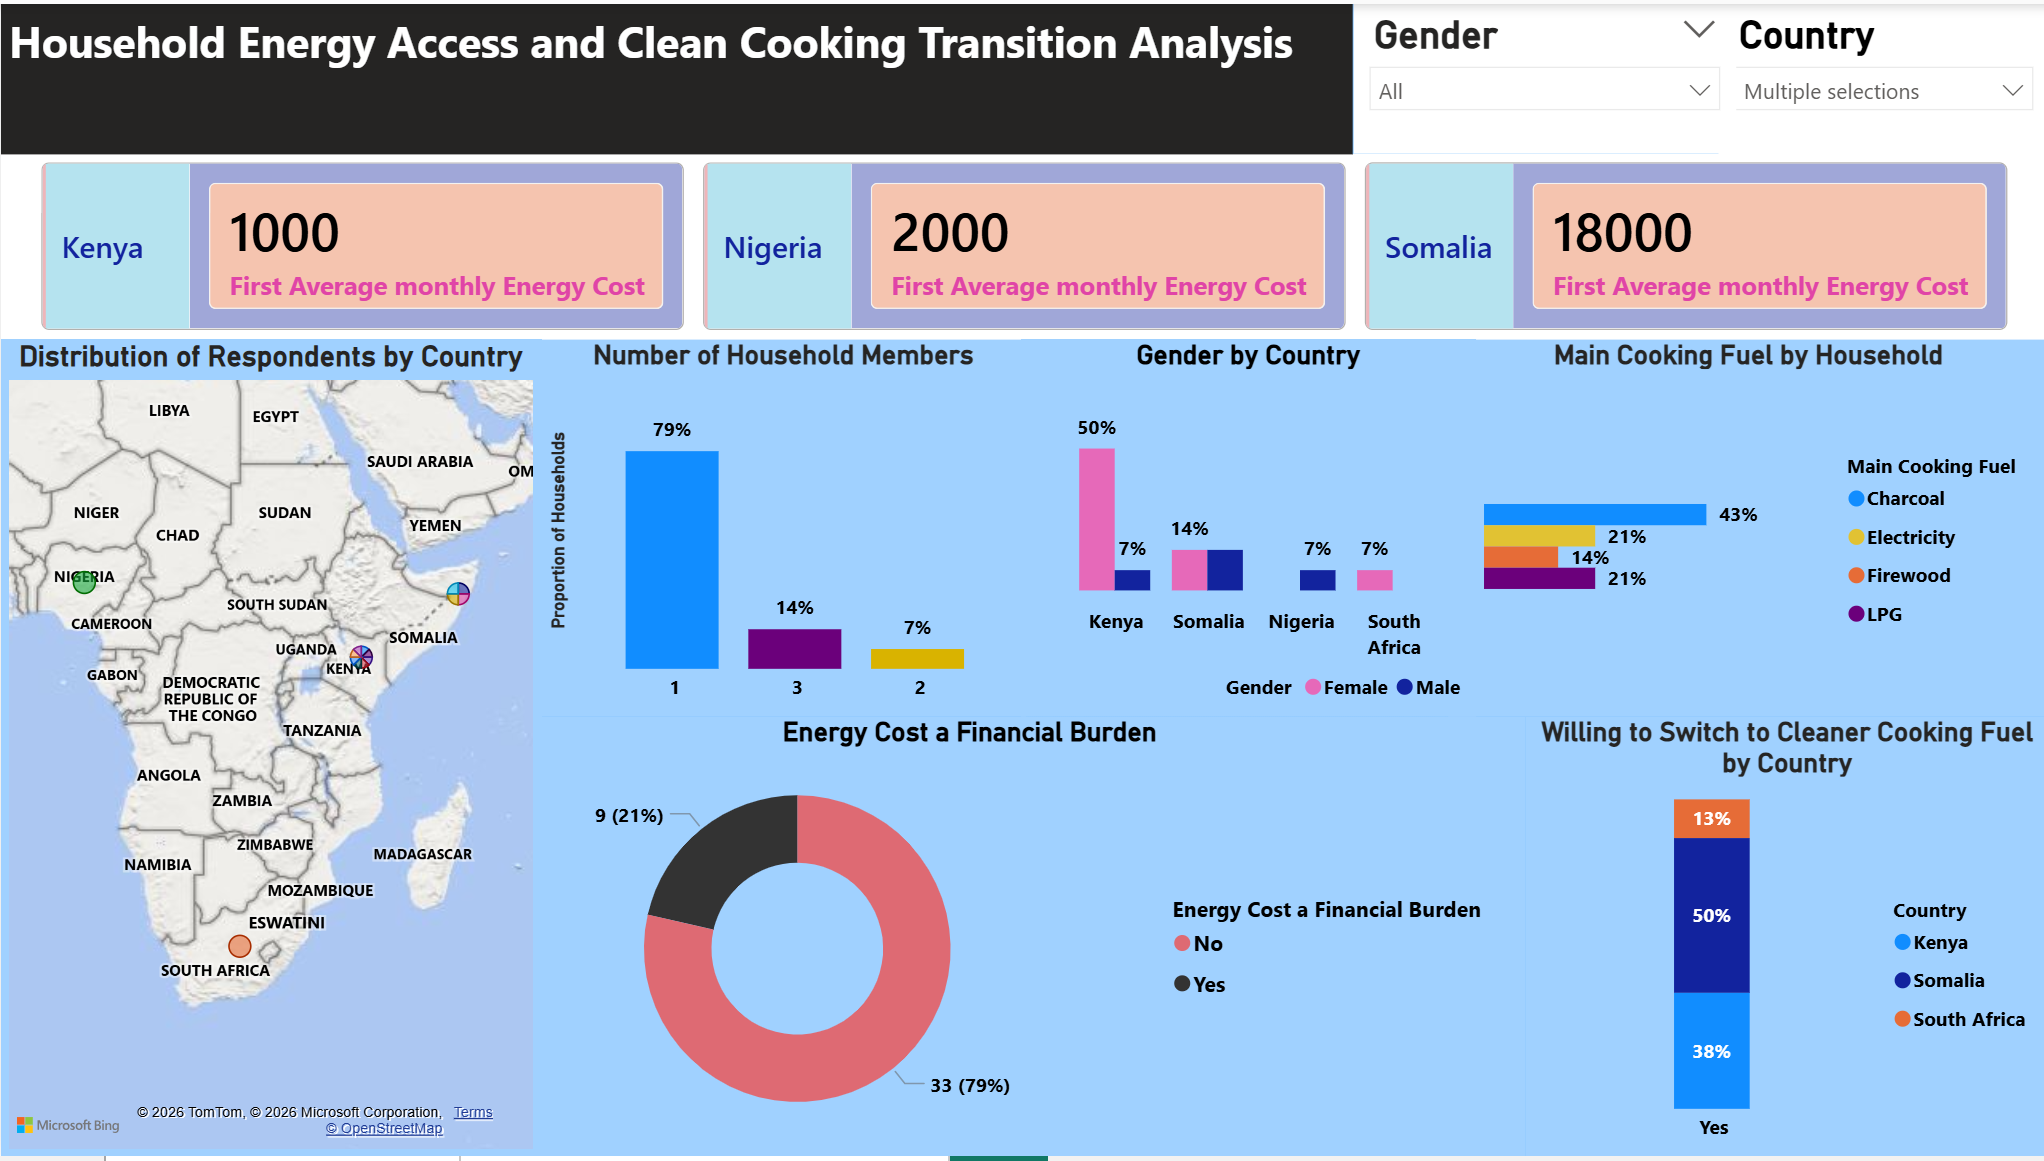

This screenshot's page, from the dashboard's own definition file:
{"tool":"powerbi","page":{"name":"Targeting and Segmentation","canvas":[1280,720],"ordinal":1},"visuals":[{"type":"clusteredBarChart","title":"Main Cooking Fuel by Household","fields":{"Series":["Dataset 2.Main Cooking Fuel"],"Y":["CountNonNull(Dataset 2._id)"]},"box":[904.7,209.4,375,235.9],"z":0},{"type":"clusteredColumnChart","title":"Access of Electricity by Country","fields":{"Category":["Dataset 2.Access Electricity"],"Y":["CountNonNull(Dataset 2._id)"],"Series":["Dataset 2.Country"]},"box":[453.1,53.1,260.9,275],"z":1000},{"type":"clusteredColumnChart","title":"Number of Household Members","fields":{"Category":["Dataset 2.HH Size"],"Y":["CountNonNull(Dataset 2._id)"]},"box":[337.5,209.4,303.1,235.9],"z":2000},{"type":"donutChart","title":"Energy Cost a Financial Burden","fields":{"Y":["CountNonNull(Dataset 2.Energy Cost Financial Burden)"],"Category":["Dataset 2.Energy Cost Financial Burden"]},"box":[257.8,445.3,695.3,275],"z":3000},{"type":"hundredPercentStackedColumnChart","title":"Willing to Switch to Cleaner Cooking Fuel by Country","fields":{"Category":["Dataset 2.Willing to Switch to Cleaner Cooking Fuel"],"Y":["Count(Dataset 2._id)"],"Series":["Dataset 2.Country"]},"box":[953.1,445.3,326.6,275],"z":4000},{"type":"cardVisual","fields":{"Data":["Min(Dataset 2.Average monthly Energy Cost)"],"Rows":["Dataset 2.Country"]},"box":[0,94.1,1280,115.9],"z":5000},{"type":"map","title":"Distribution of Respondents by Country ","fields":{"Category":["Dataset 2.Country"],"Series":["Dataset 2._id"]},"box":[0,209.4,337.5,510.9],"z":6000},{"type":"slicer","fields":{"Values":["Dataset 2.Country"]},"box":[1073.4,0,206.6,94.1],"z":7000},{"type":"textbox","box":[0,0,844.9,94.1],"z":8000},{"type":"clusteredColumnChart","title":"Gender by Country","fields":{"Y":["CountNonNull(Dataset 2._id)"],"Series":["Dataset 2.Gender"],"Category":["Dataset 2.Country"]},"box":[637.5,209.4,284.4,235.9],"z":9000},{"type":"slicer","fields":{"Values":["Dataset 2.Gender"]},"box":[845.3,0,239.1,93.8],"z":10000}]}

Visuals, with their boxes in screenshot pixels (x1, y1, x2, y2), scaled from the page's 1280x720 canvas onto the 2044x1161 screenshot:
"Main Cooking Fuel by Household" clusteredBarChart: (x1=1445, y1=338, x2=2043, y2=718)
"Access of Electricity by Country" clusteredColumnChart: (x1=724, y1=86, x2=1140, y2=529)
"Number of Household Members" clusteredColumnChart: (x1=539, y1=338, x2=1023, y2=718)
"Energy Cost a Financial Burden" donutChart: (x1=412, y1=718, x2=1522, y2=1160)
"Willing to Switch to Cleaner Cooking Fuel by Country" hundredPercentStackedColumnChart: (x1=1522, y1=718, x2=2043, y2=1160)
cardVisual - Min(Dataset 2.Average monthly Energy Cost) x Dataset 2.Country: (x1=0, y1=152, x2=2043, y2=339)
"Distribution of Respondents by Country " map: (x1=0, y1=338, x2=539, y2=1160)
slicer - Dataset 2.Country: (x1=1714, y1=0, x2=2043, y2=152)
textbox: (x1=0, y1=0, x2=1349, y2=152)
"Gender by Country" clusteredColumnChart: (x1=1018, y1=338, x2=1472, y2=718)
slicer - Dataset 2.Gender: (x1=1350, y1=0, x2=1732, y2=151)
